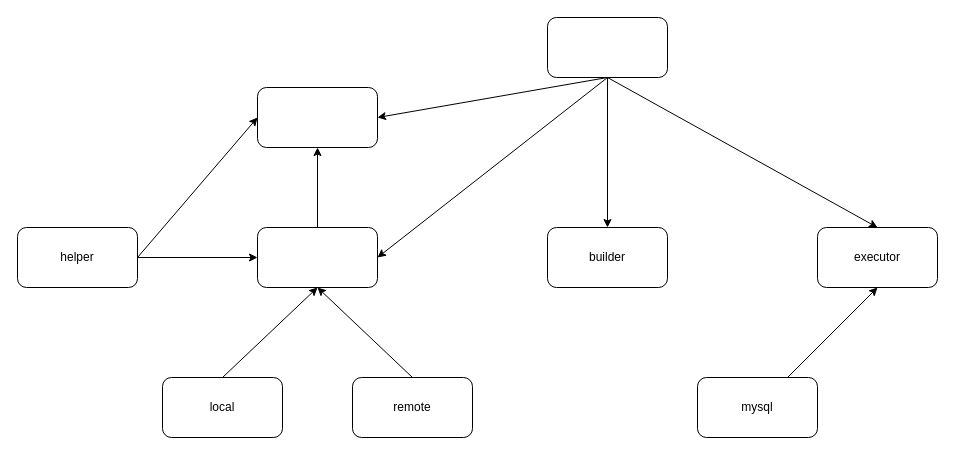
Some shapes in this 955 by 455 pixel diagram are drawn without their labels. The shapes that lost their labels are listed below. From the top down, each one's box as (x1, y1, x2, y2) in pixels, then its label:
(546, 16, 668, 78): orm
(256, 86, 378, 148): model
(256, 226, 378, 288): provider
